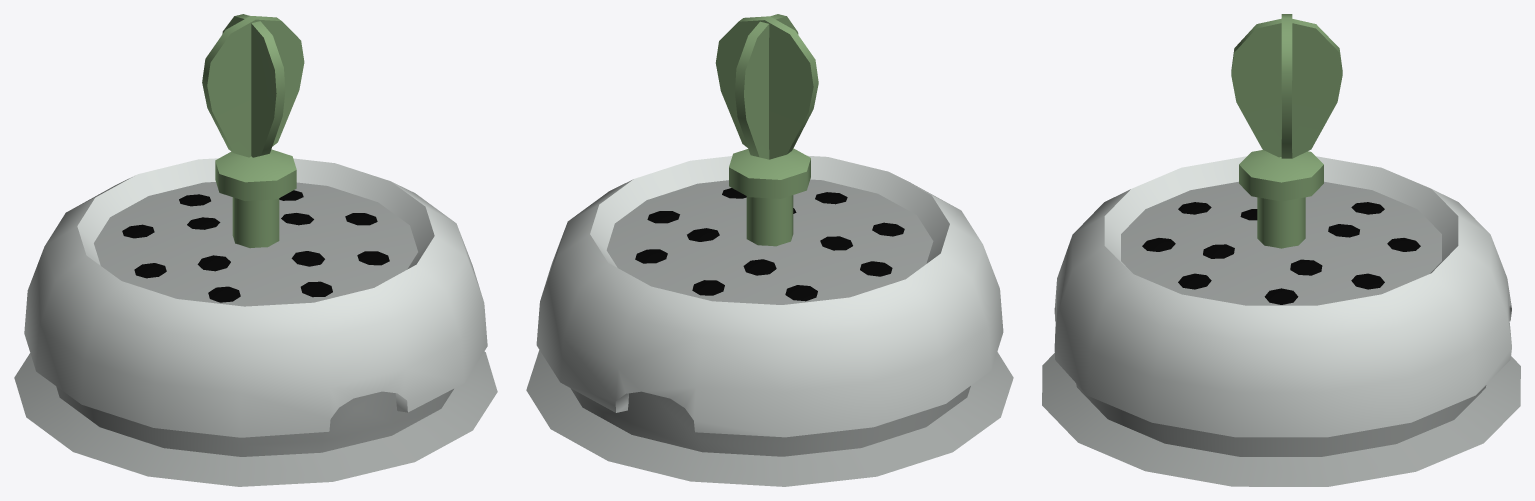
3 views of the same model, side by side, from view 1: azimuth 30°, elevation 25°; view 2: azimuth 150°, elevation 25°; view 3: azimuth 270°, elevation 25° (orthographic).
Parts seen in each view (by area): view 1: G:\FFXIV-MapTools\exports\u5f1\bg\ex4\04_uvs_u5\fld\u5f1\bgp (×5); view 2: G:\FFXIV-MapTools\exports\u5f1\bg\ex4\04_uvs_u5\fld\u5f1\bgp (×5); view 3: G:\FFXIV-MapTools\exports\u5f1\bg\ex4\04_uvs_u5\fld\u5f1\bgp (×5).
Part boxes in pixels (x1,y1,x2,y2): G:\FFXIV-MapTools\exports\u5f1\bg\ex4\04_uvs_u5\fld\u5f1\bgp (×5): (14, 14, 497, 486); G:\FFXIV-MapTools\exports\u5f1\bg\ex4\04_uvs_u5\fld\u5f1\bgp (×5): (526, 14, 1013, 486); G:\FFXIV-MapTools\exports\u5f1\bg\ex4\04_uvs_u5\fld\u5f1\bgp (×5): (1042, 14, 1520, 486).
Size of the model in its own units: 2.95 by 2.5 by 2.95.
